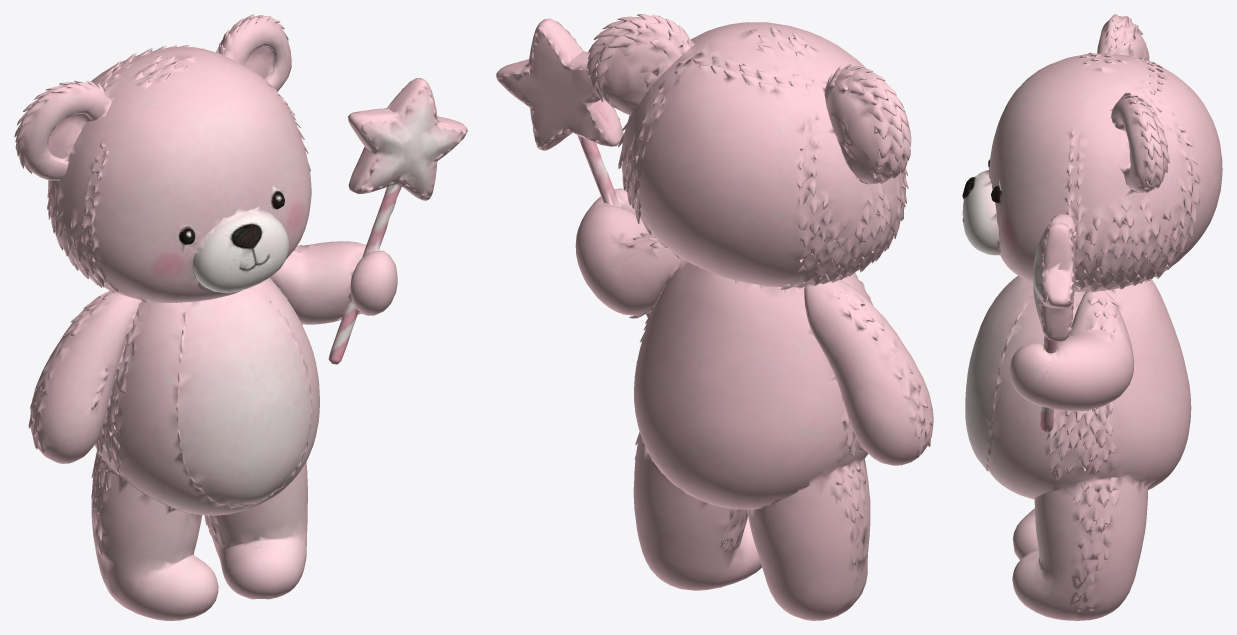
3 renders of one model, left to right at view 1: azimuth 30°, elevation 25°; view 2: azimuth 150°, elevation 25°; view 3: azimuth 270°, elevation 25°, orthographic. The views are drawn at different scales.
Size of the model in its own units: 1.53 by 1.9 by 0.8507.
1 material, 1 textured.
